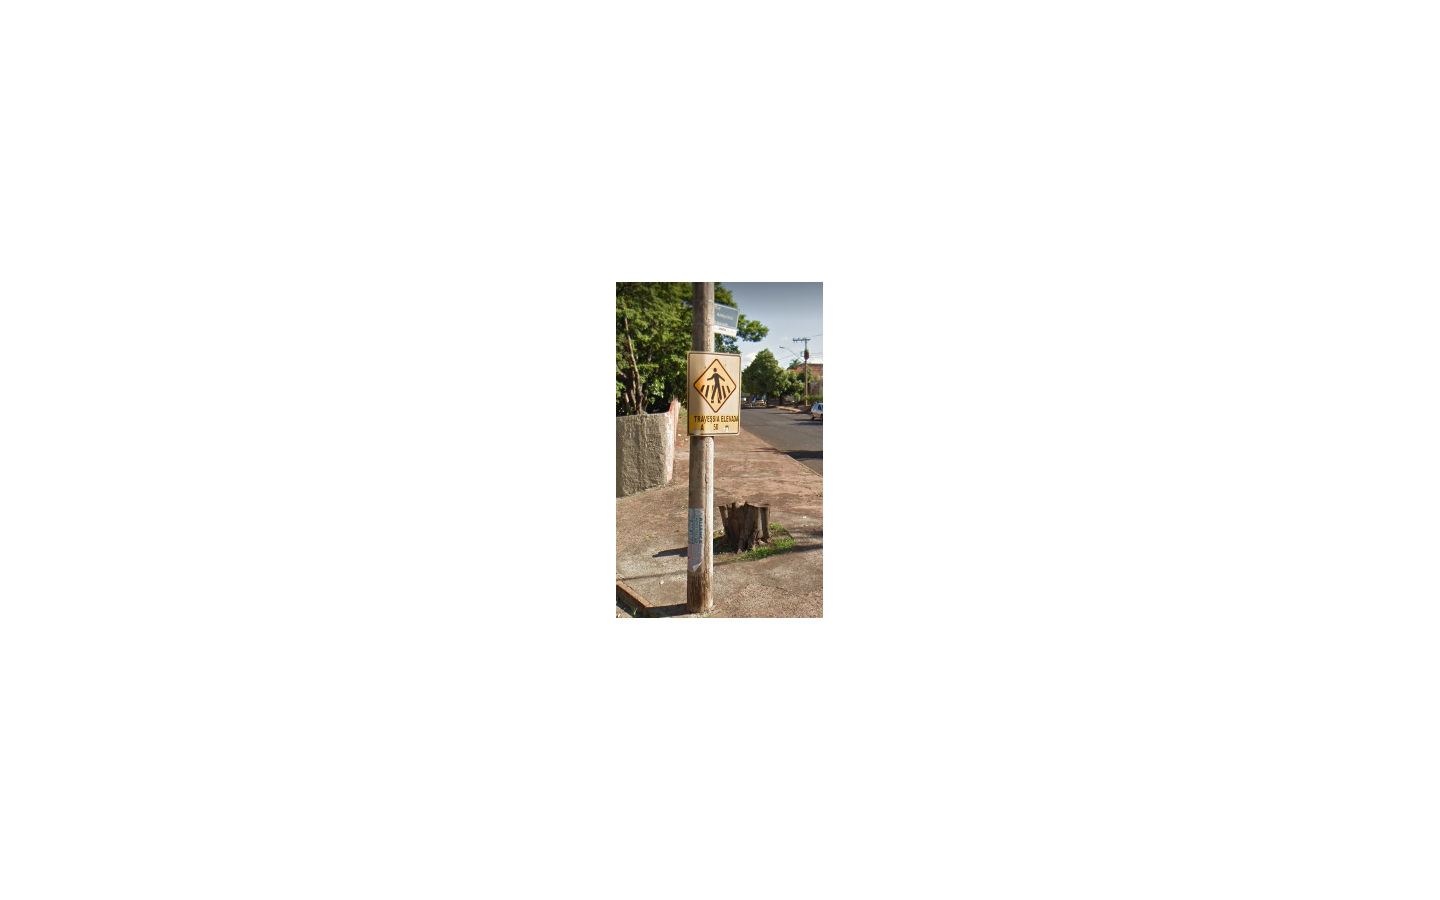t50m: (687, 351, 741, 435)
